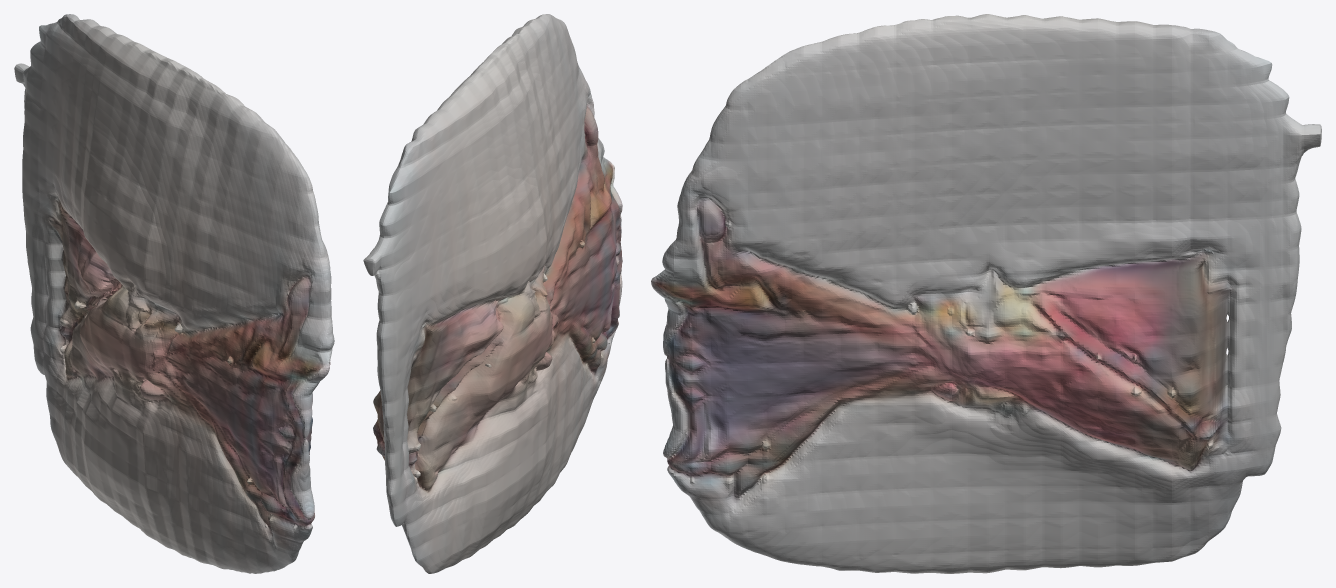
File: echeveria.glb
The picture shows the model from 3 angles, left to right: view 1: azimuth 30°, elevation 25°; view 2: azimuth 150°, elevation 25°; view 3: azimuth 270°, elevation 25°; orthographic projection. The views are drawn at different scales.
Visible parts, largest first — view 1: world; view 2: world; view 3: world.
Boxes of the visible parts, bbox=[...] form: world: bbox=[14, 14, 334, 573]; world: bbox=[363, 14, 622, 573]; world: bbox=[651, 14, 1321, 573].
Bounding box in the file's own units: 0.1884 × 0.925 × 0.9859.
